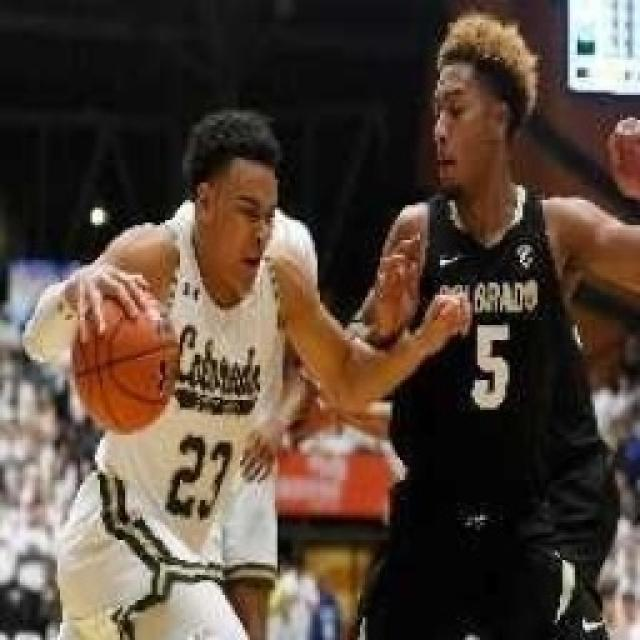basketball: (79, 292, 170, 426)
